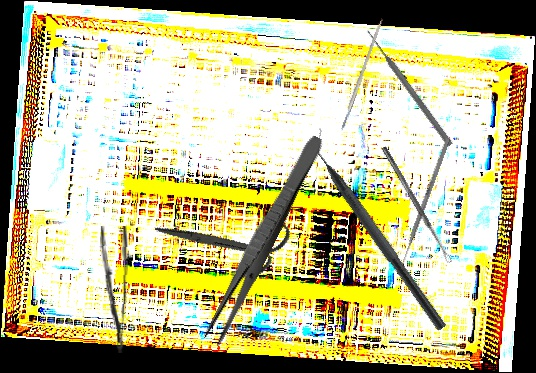Chopper: (300, 126, 460, 332)
Dressing Forceps: (200, 131, 327, 348), (95, 225, 130, 354)
Iris Scissors: (154, 179, 301, 306)
Pusher: (363, 27, 455, 148), (397, 137, 451, 272)
Scalpel Handle: (338, 17, 385, 132)
Surgical Spoon: (380, 145, 453, 265)
